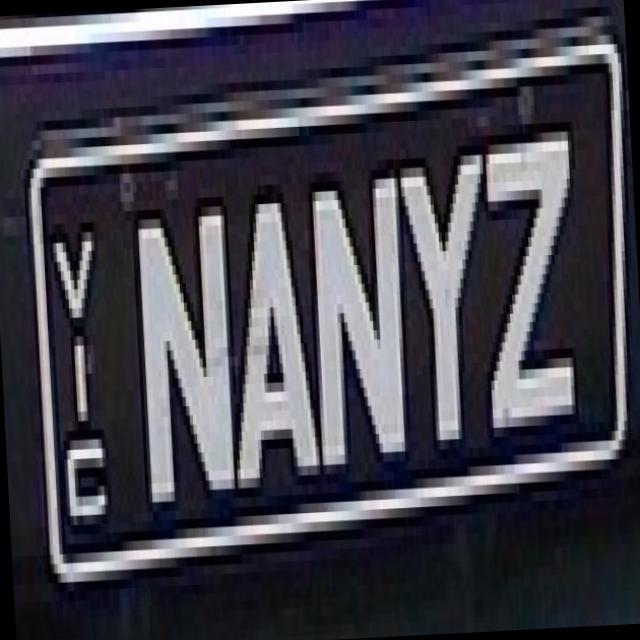LicensePlate: (7, 14, 640, 609)
